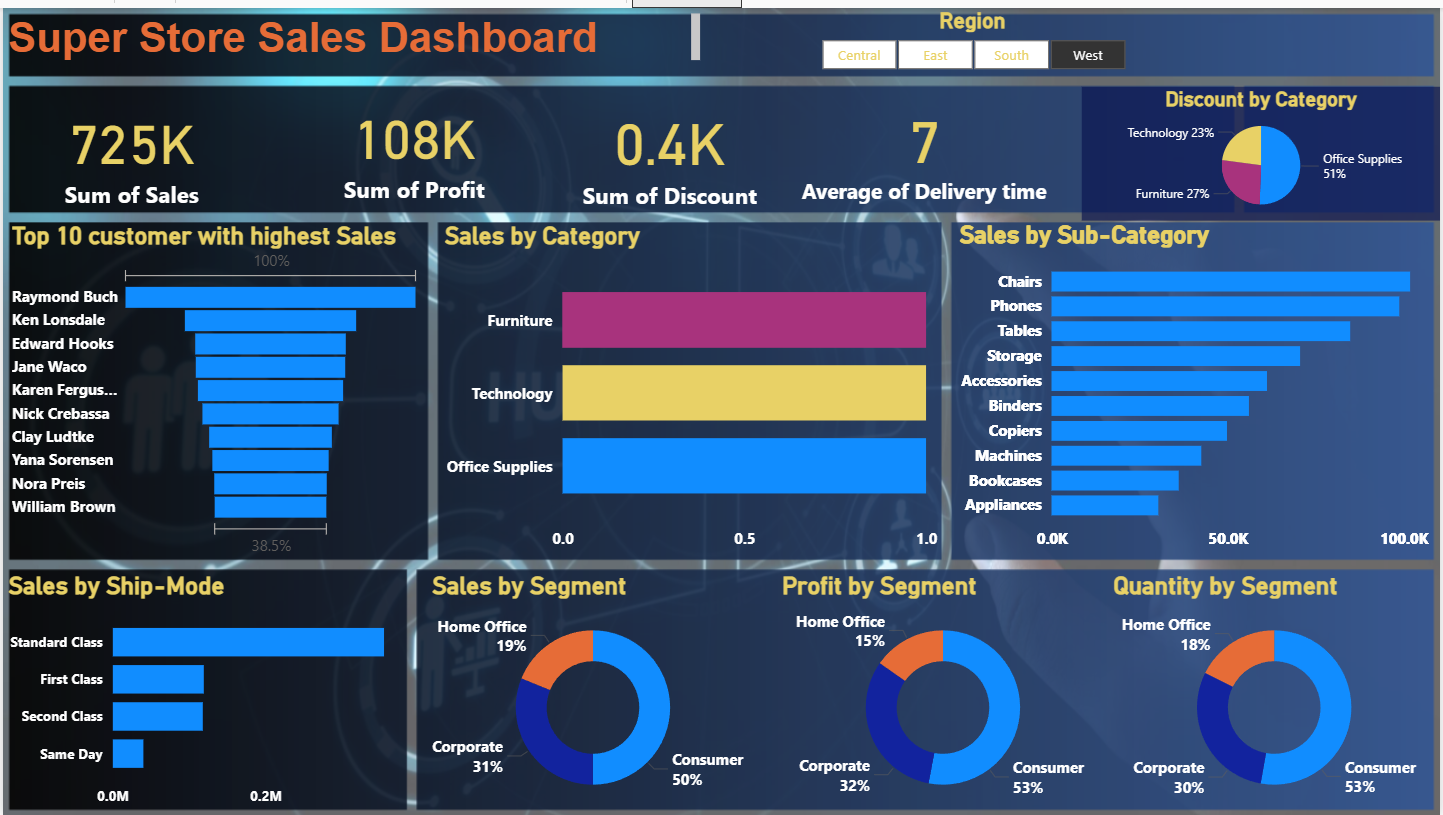

The page's visual inventory and layout, read from the dashboard file:
{"tool":"powerbi","page":{"name":"Page 1","canvas":[1280,720],"ordinal":0},"visuals":[{"type":"clusteredBarChart","title":"Sales by Category","fields":{"Category":["Sample - Superstore original.Category"],"Y":["Sample - Superstore original.Sales"]},"box":[388.3,190.7,448.7,301.9],"z":0},{"type":"clusteredBarChart","title":"Sales by Sub-Category","fields":{"Y":["Sample - Superstore original.Sales"],"Category":["Sample - Superstore original.Sub-Category"]},"box":[846.9,189.4,433.1,302.8],"z":1000},{"type":"clusteredBarChart","title":"Sales by Ship-Mode","fields":{"Y":["Sample - Superstore original.Sales"],"Category":["Sample - Superstore original.Ship Mode"]},"box":[0,502.2,359.5,218.2],"z":2000},{"type":"funnel","title":"Top 10 customer with highest Sales","fields":{"Category":["Sample - Superstore original.Customer Name"],"Y":["Sample - Superstore original.Sales"]},"box":[0,190.7,377.4,301.9],"z":3000},{"type":"donutChart","title":"Sales by Segment","fields":{"Category":["Sample - Superstore original.Segment"],"Y":["Sample - Superstore original.Sales"]},"box":[377.4,502.2,296.4,218.2],"z":4000},{"type":"clusteredBarChart","title":"Sales by Sub-Category","fields":{"Y":["Sample - Superstore original.Sales"],"Category":["Sample - Superstore original.Sub-Category"]},"box":[846.9,189.4,433.1,302.8],"z":5000},{"type":"donutChart","title":"Profit by Segment","fields":{"Category":["Sample - Superstore original.Segment"],"Y":["Sample - Superstore original.Profit"]},"box":[688.9,502.2,296.4,218.2],"z":6000},{"type":"donutChart","title":"Quantity by Segment","fields":{"Category":["Sample - Superstore original.Segment"],"Y":["Sample - Superstore original.Quantity"]},"box":[983.9,502.2,296.4,218.2],"z":7000},{"type":"pieChart","title":"Discount by Category","fields":{"Category":["Sample - Superstore original.Category"],"Y":["Sample - Superstore original.Discount"]},"box":[960.6,70,319.7,119.4],"z":8000},{"type":"slicer","title":"Region","fields":{"Values":["Sample - Superstore original.Region"]},"box":[703.4,0,319.7,60.3],"z":9000},{"type":"textbox","box":[0,0,626.1,60.3],"z":10000},{"type":"card","title":"Total Sales","fields":{"Values":["Sample - Superstore original.Sales"]},"box":[0,70,226.4,119.4],"z":11000},{"type":"card","title":"Total Sales","fields":{"Values":["Sample - Superstore original.Profit"]},"box":[251.1,71.4,226.4,108.4],"z":12000},{"type":"card","fields":{"Values":["Sample - Superstore original.Discount"]},"box":[483.8,68.8,219.6,119.4],"z":13000},{"type":"card","fields":{"Values":["Sample - Superstore original.Delivery time"]},"box":[703.4,71.2,234,108.6],"z":14000}]}

Visuals, with their boxes in screenshot pixels (x1, y1, x2, y2), scaled from the page's 1280x720 canvas onto the 1443x815 screenshot:
"Sales by Category" clusteredBarChart: [left=438, top=216, right=944, bottom=558]
"Sales by Sub-Category" clusteredBarChart: [left=955, top=214, right=1442, bottom=557]
"Sales by Ship-Mode" clusteredBarChart: [left=0, top=568, right=405, bottom=814]
"Top 10 customer with highest Sales" funnel: [left=0, top=216, right=425, bottom=558]
"Sales by Segment" donutChart: [left=425, top=568, right=760, bottom=814]
"Sales by Sub-Category" clusteredBarChart: [left=955, top=214, right=1442, bottom=557]
"Profit by Segment" donutChart: [left=777, top=568, right=1111, bottom=814]
"Quantity by Segment" donutChart: [left=1109, top=568, right=1442, bottom=814]
"Discount by Category" pieChart: [left=1083, top=79, right=1442, bottom=214]
"Region" slicer: [left=793, top=0, right=1153, bottom=68]
textbox: [left=0, top=0, right=706, bottom=68]
"Total Sales" card: [left=0, top=79, right=255, bottom=214]
"Total Sales" card: [left=283, top=81, right=538, bottom=204]
card - Sample - Superstore original.Discount: [left=545, top=78, right=793, bottom=213]
card - Sample - Superstore original.Delivery time: [left=793, top=81, right=1057, bottom=204]
